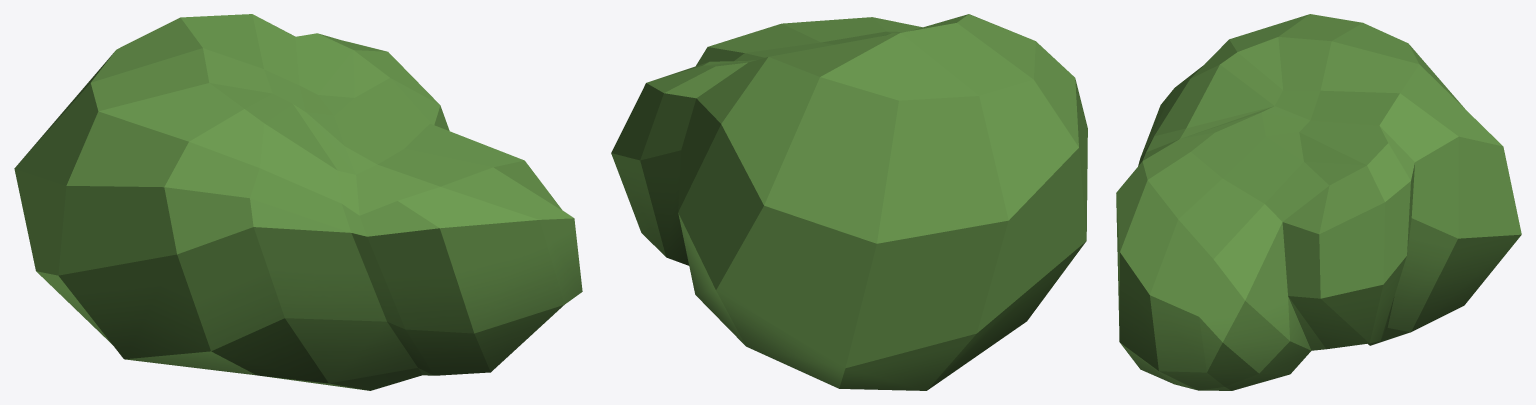
The model's file is Oak-Bush-06.fbx.
3 views of the same model, side by side, from view 1: azimuth 30°, elevation 25°; view 2: azimuth 150°, elevation 25°; view 3: azimuth 270°, elevation 25° (orthographic). The views are drawn at different scales.
Parts seen in each view (by area): view 1: Oak-Bush-06; view 2: Oak-Bush-06; view 3: Oak-Bush-06.
Part boxes in pixels (x1=…): Oak-Bush-06: x1=14, y1=14, x2=582, y2=390; Oak-Bush-06: x1=611, y1=14, x2=1087, y2=390; Oak-Bush-06: x1=1116, y1=14, x2=1521, y2=390.
Bounding box in the file's own units: 770 × 527 × 690.
Materials: 1 (1 with a texture image).
